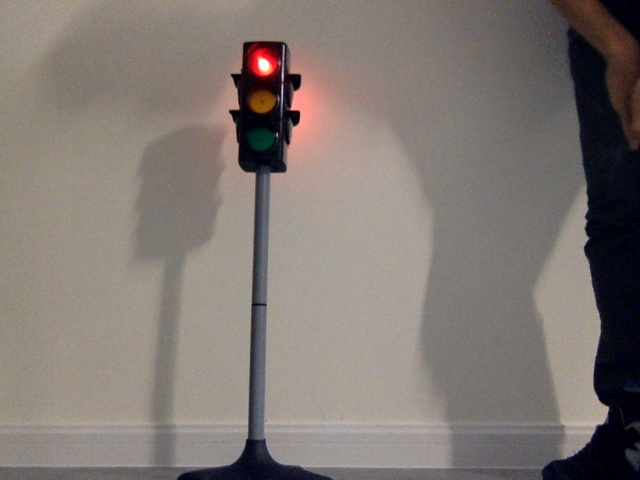red: (242, 42, 278, 158)
